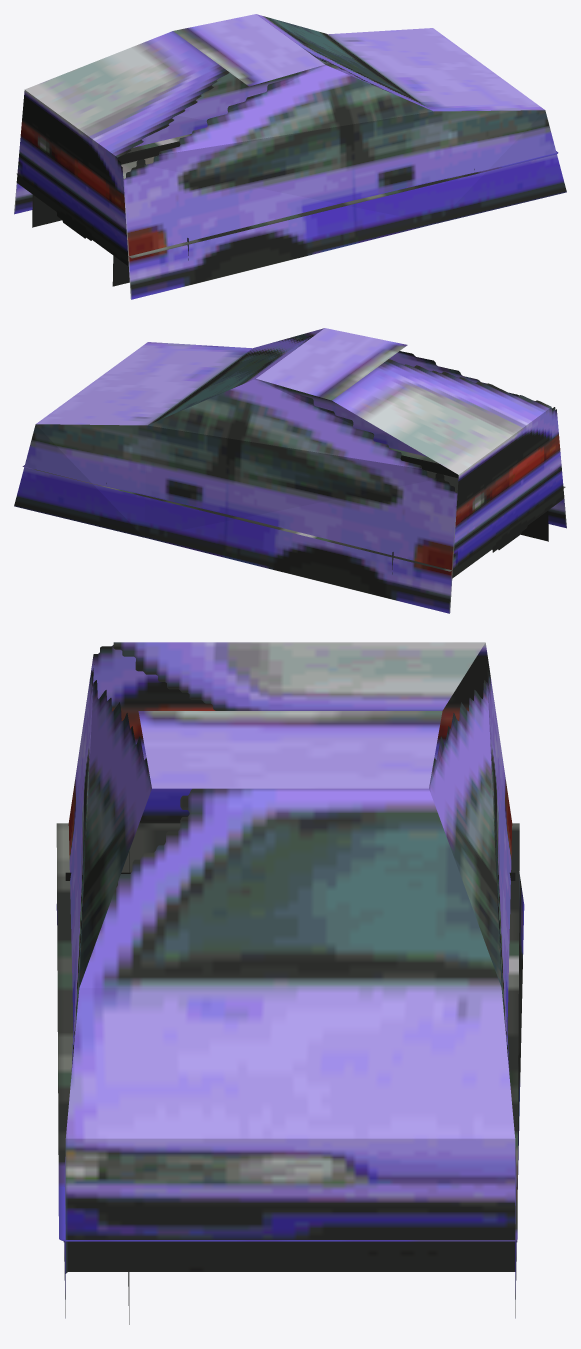
File: _crx.obj
3 views of the same model, one above another, from view 1: azimuth 30°, elevation 25°; view 2: azimuth 150°, elevation 25°; view 3: azimuth 270°, elevation 25° (orthographic). The views are drawn at different scales.
Bounding box in the file's own units: 446 × 161 × 206.
1 material, 1 textured.
